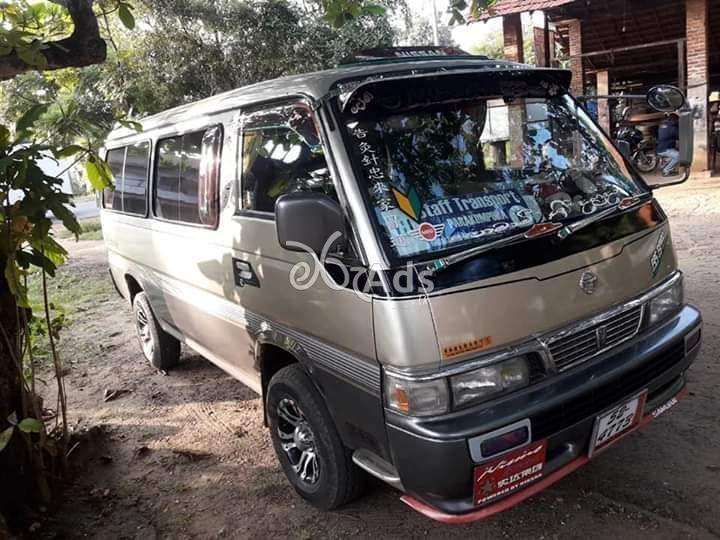Van: (101, 60, 703, 497)
